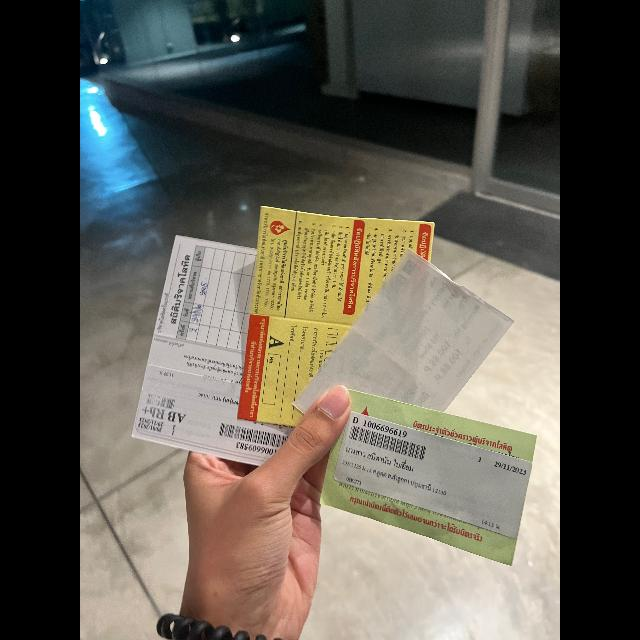scrap_paper: (232, 200, 446, 422), (131, 236, 337, 458), (300, 251, 518, 427), (314, 396, 532, 562)
